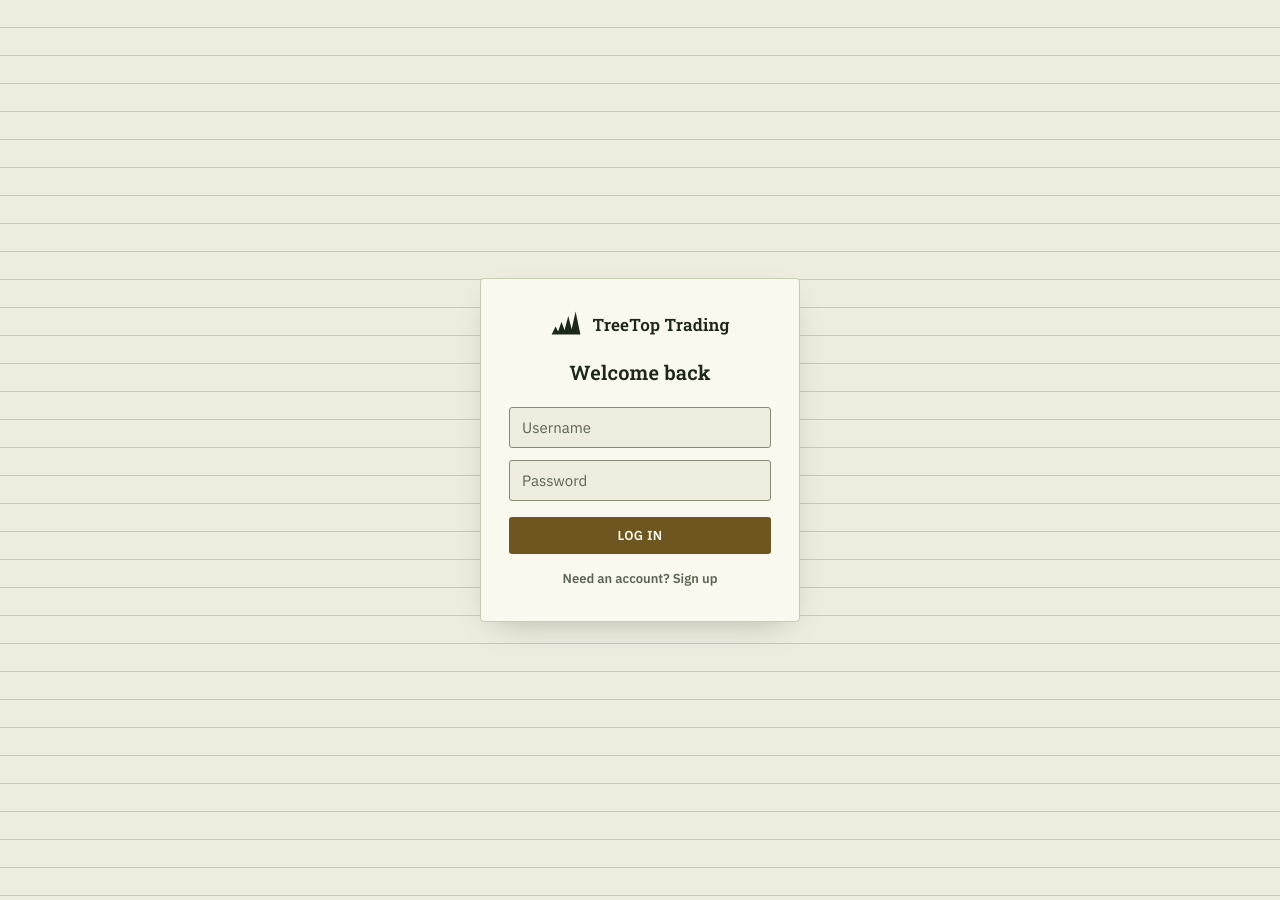
Test: Login › switches to registration mode and validates its extra fields
The image size is (1280, 900).
Click the button "Need an account? Sign up": (640, 578) [509,566,771,591]
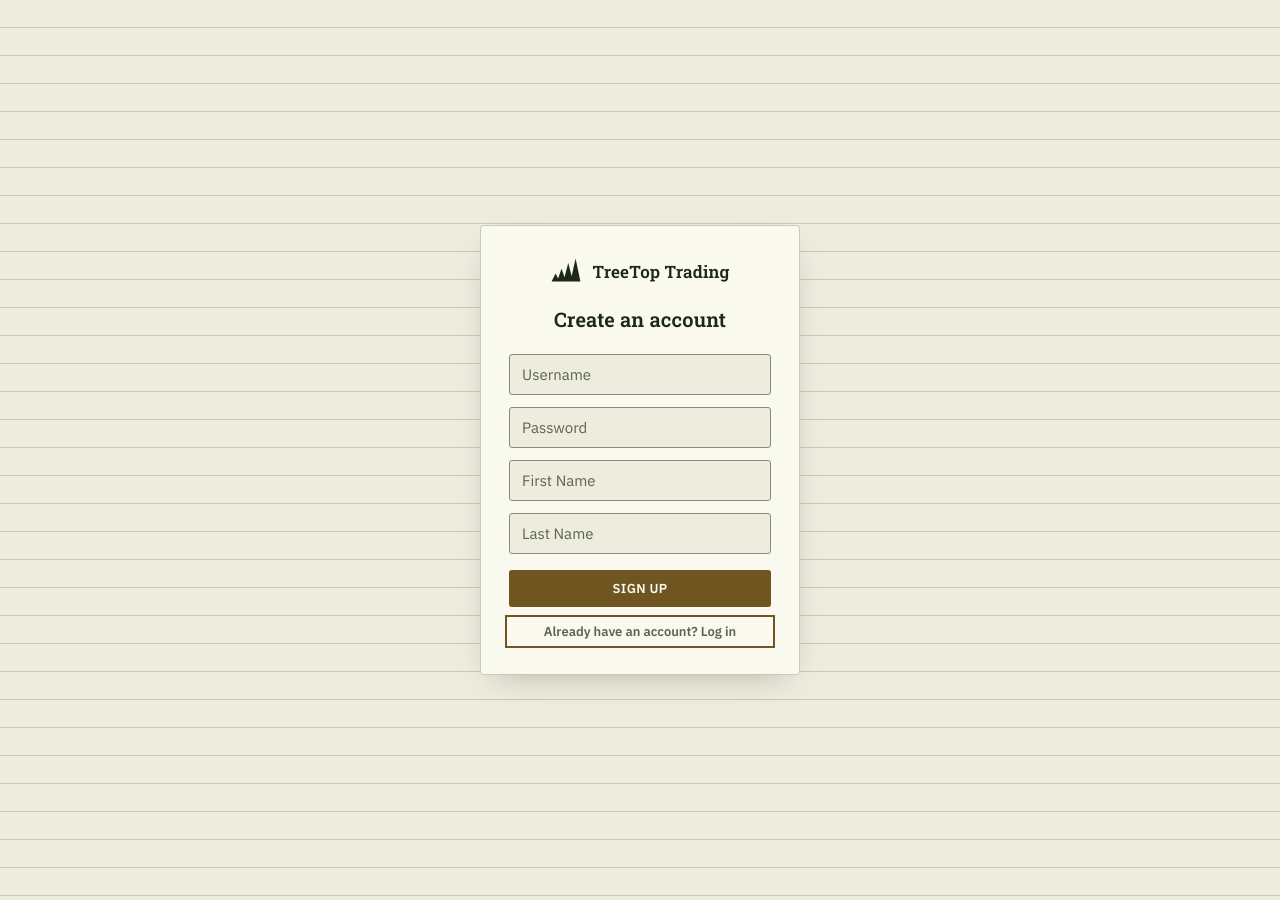
Now the heading "Create an account" is shown, box [554,306,726,332]
In the field with placeholder "Username": (640, 374) [509,354,771,395], type "ada"
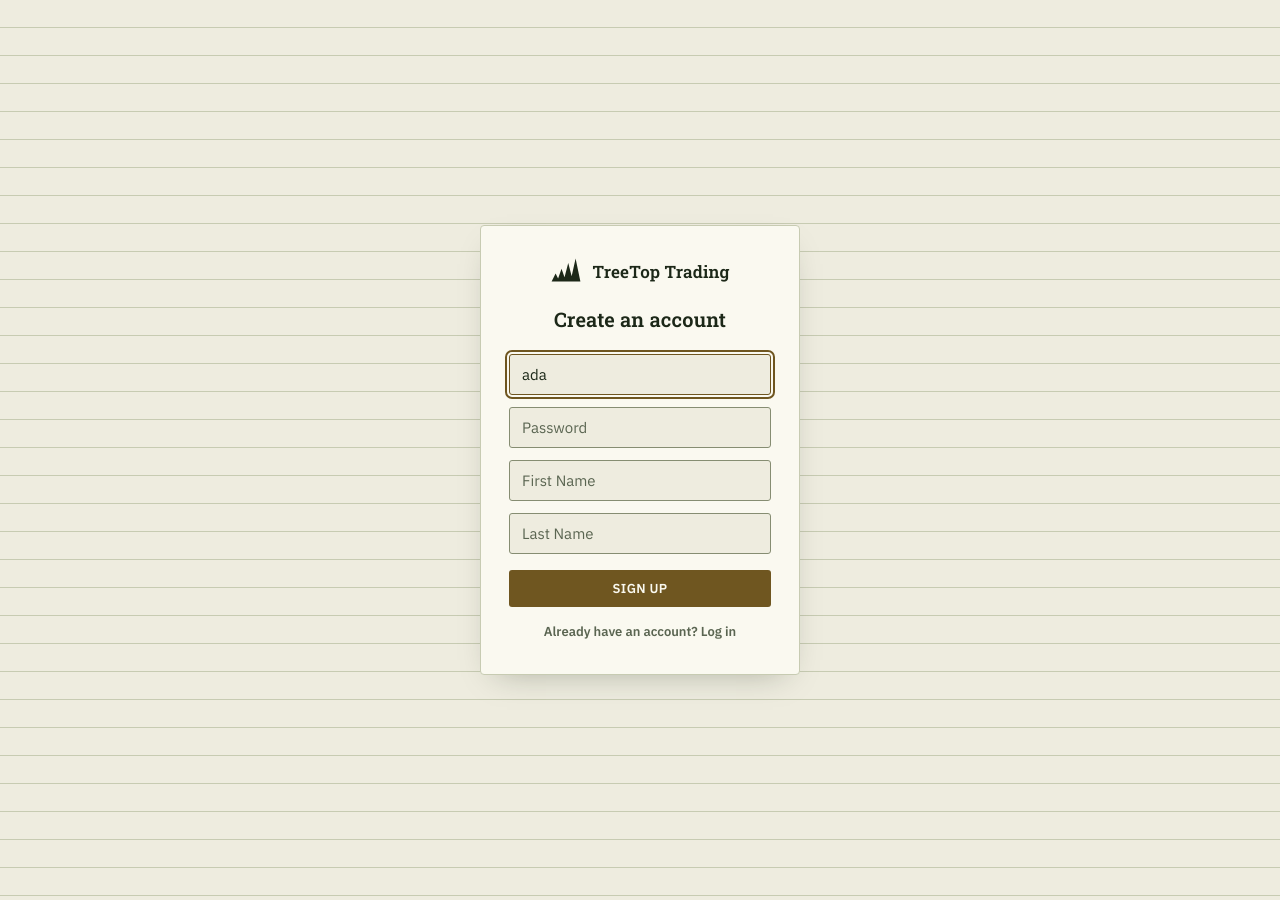
In the password field with placeholder "Password": (640, 428) [509,407,771,448], type "short"
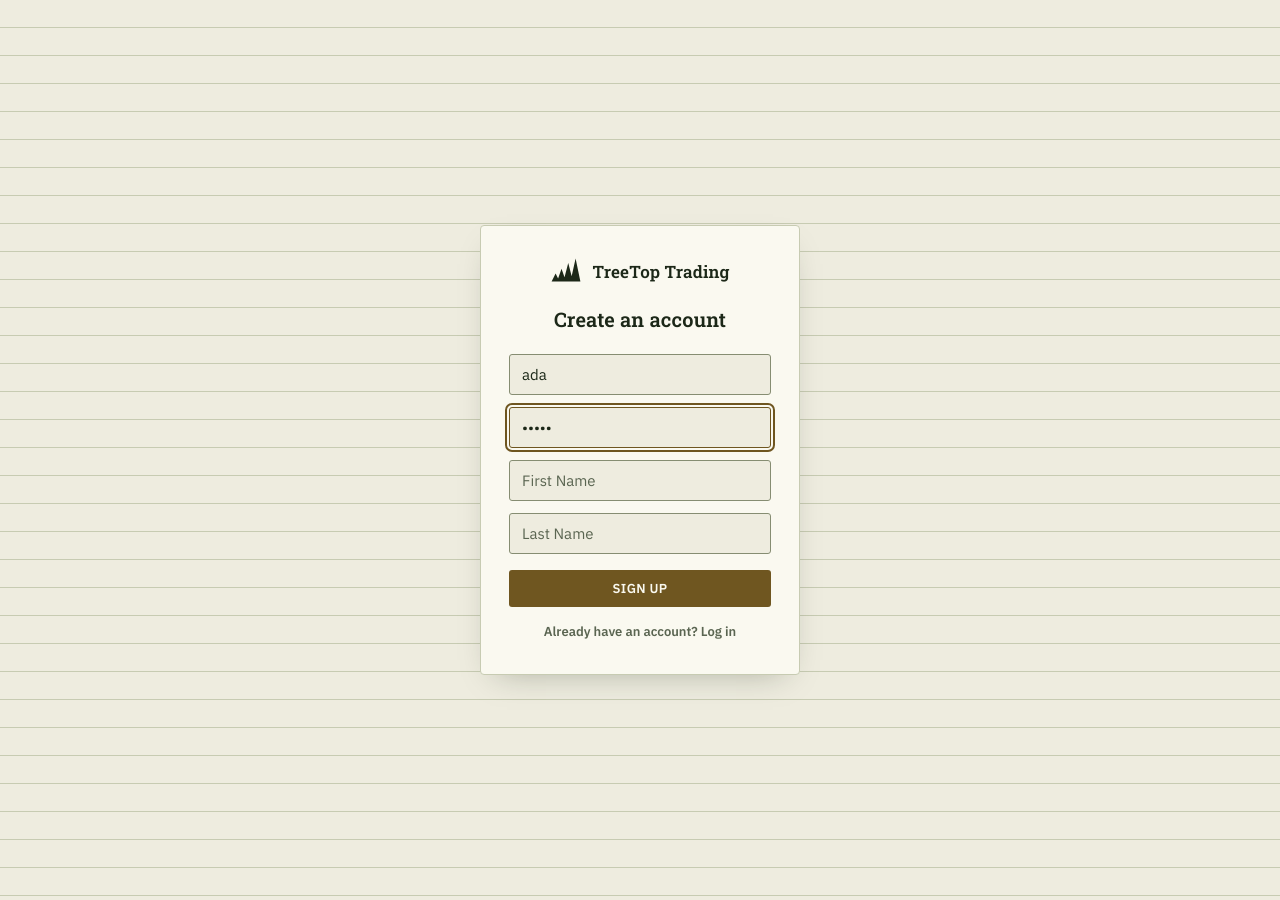
In the field with placeholder "First Name": (640, 480) [509,460,771,501], type "Ada"
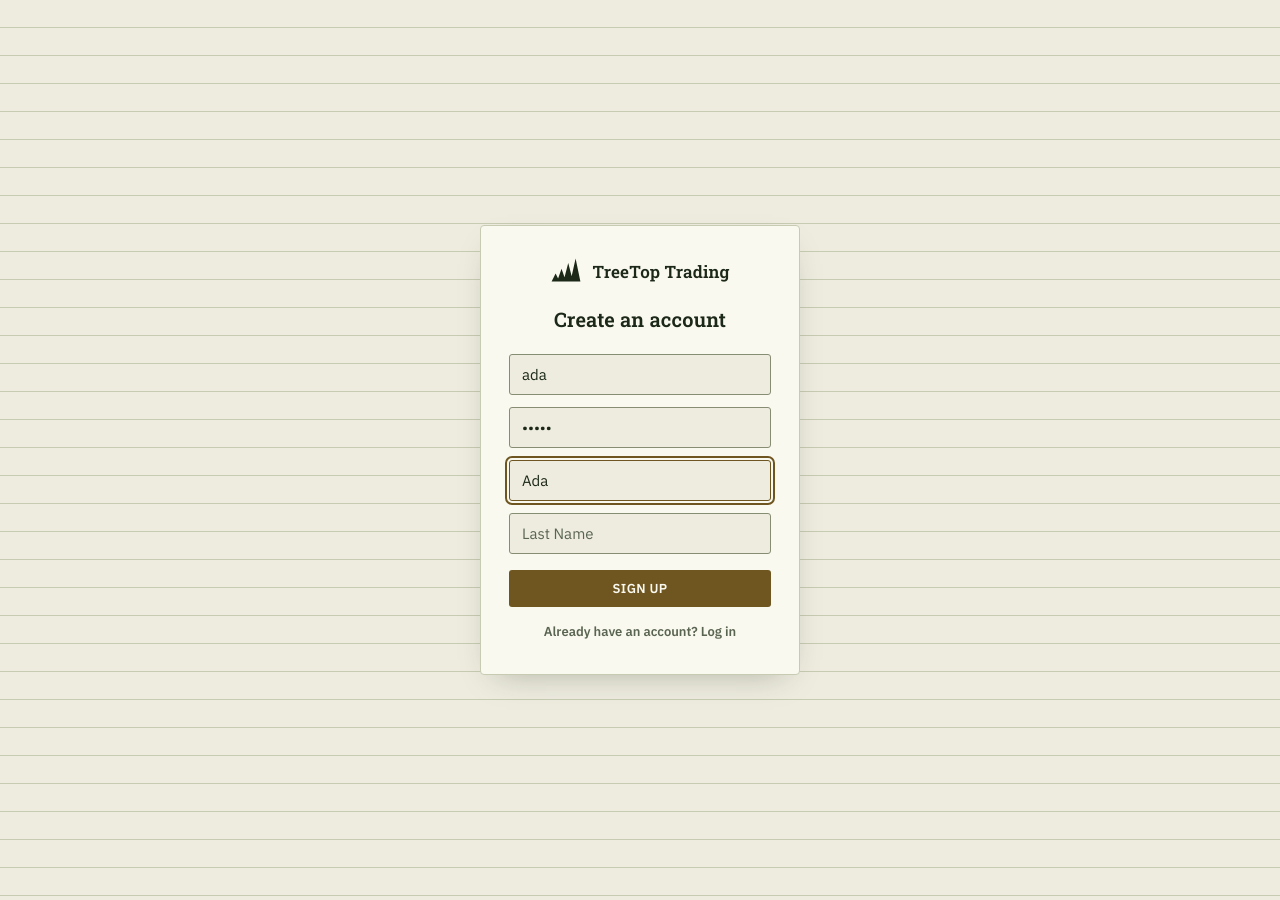
In the field with placeholder "Last Name": (640, 534) [509,513,771,554], type "Lovelace"
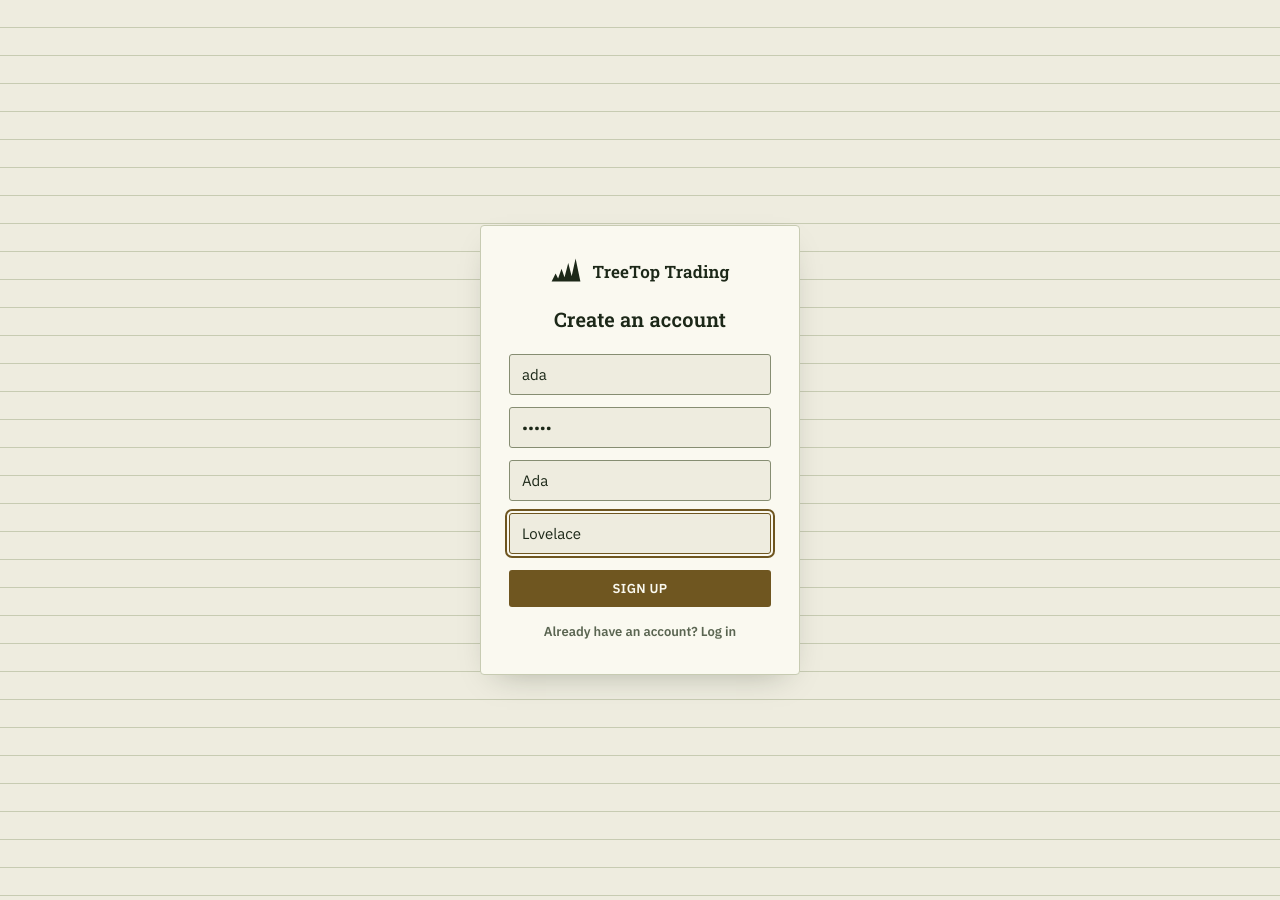
Click the button "Sign Up": (640, 588) [509,570,771,607]
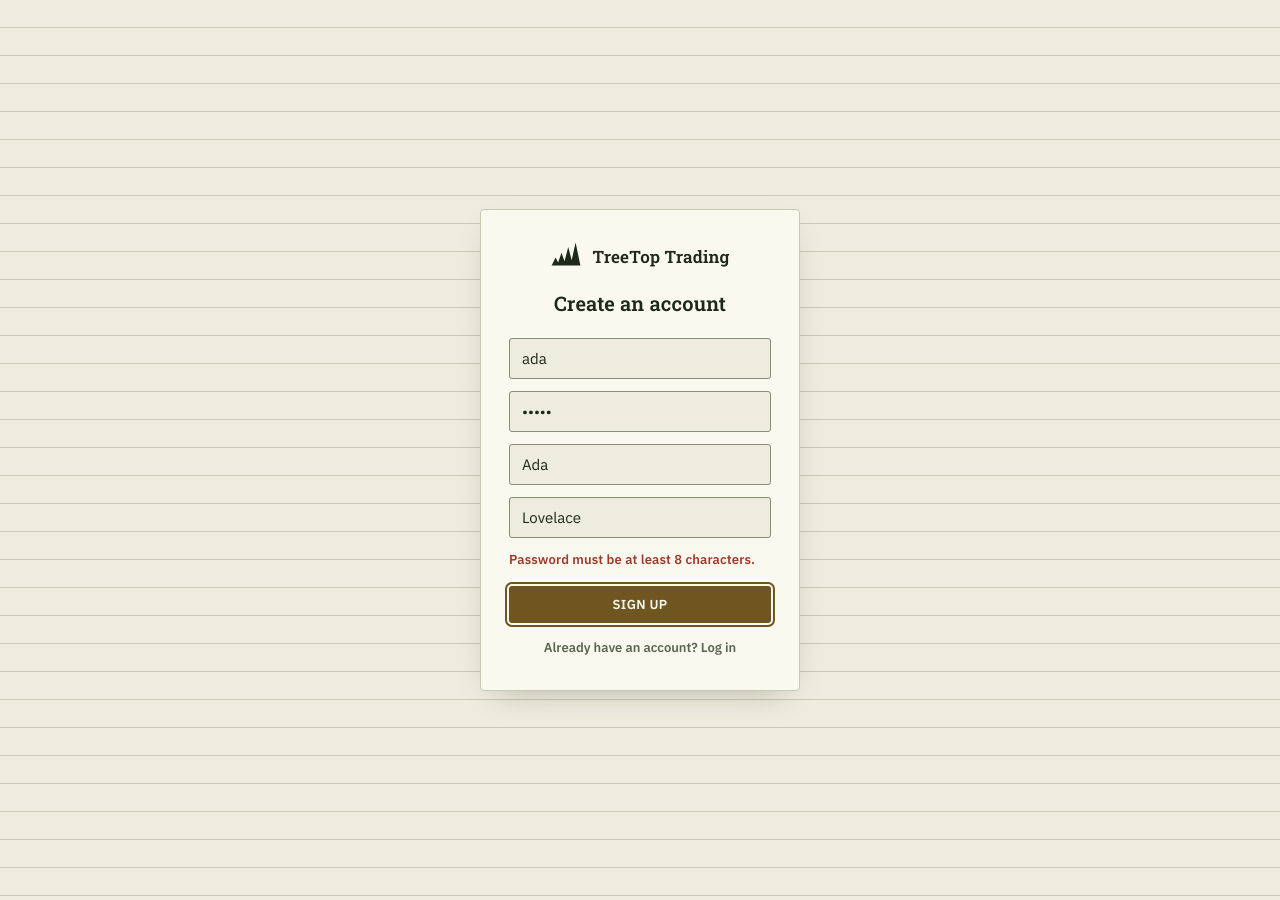
Now the text "Password must be at least 8 characters." is shown, box [509,550,771,570]
